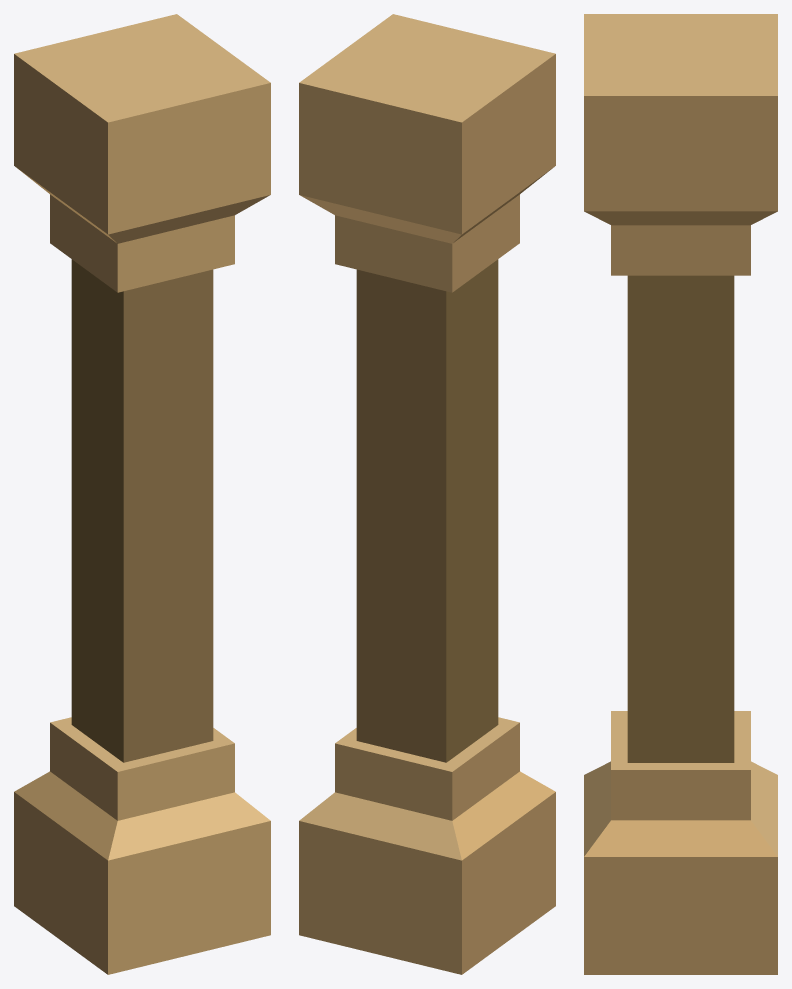
File: ST_Env_Pillar_01.fbx
3 renders of one model, left to right at view 1: azimuth 30°, elevation 25°; view 2: azimuth 150°, elevation 25°; view 3: azimuth 270°, elevation 25°, orthographic. The views are drawn at different scales.
Visible parts, largest first — view 1: ST_Env_Pillar_01; view 2: ST_Env_Pillar_01; view 3: ST_Env_Pillar_01.
Part boxes in pixels (x1,y1,x2,y2): ST_Env_Pillar_01: [14, 14, 270, 974]; ST_Env_Pillar_01: [299, 14, 555, 974]; ST_Env_Pillar_01: [584, 14, 777, 974].
Bounding box in the file's own units: 1 × 5 × 1.
